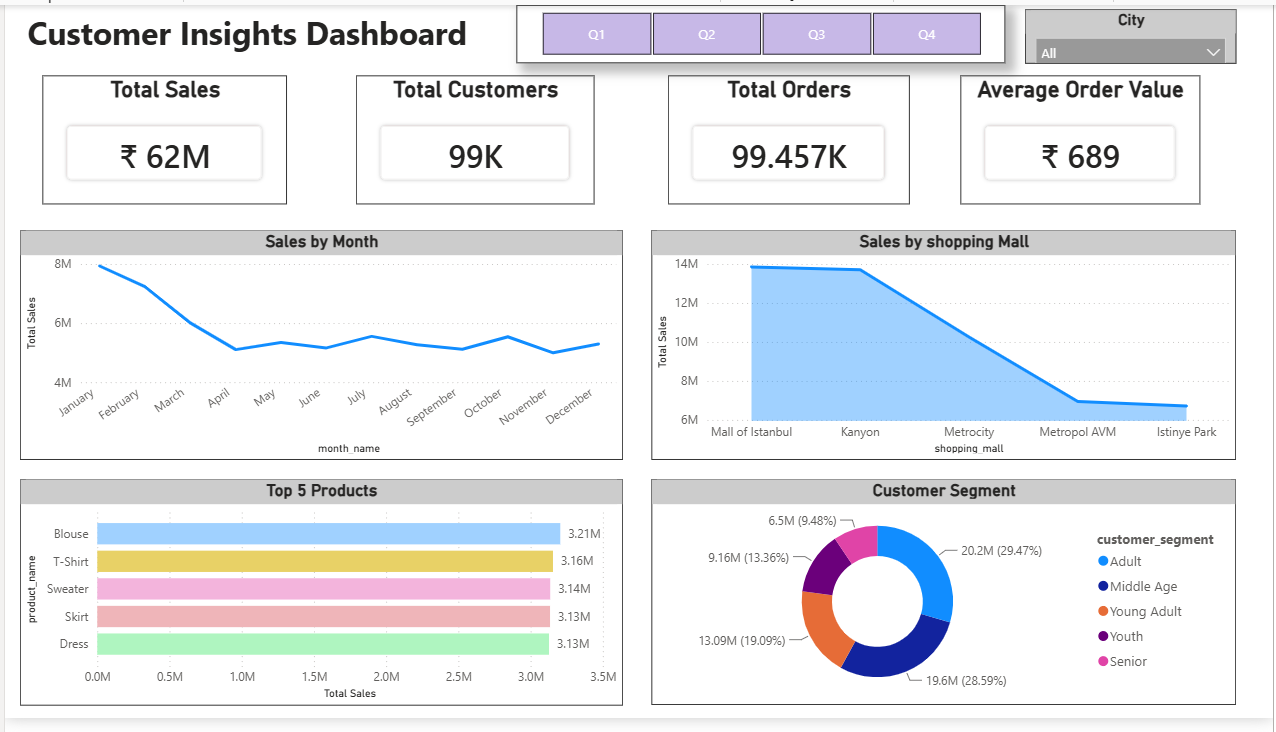

This screenshot's page, from the dashboard's own definition file:
{"tool":"powerbi","page":{"name":"Page 1","canvas":[1280,720],"ordinal":0},"visuals":[{"type":"cardVisual","title":"Total Sales","fields":{"Data":["Sum(customers_shopping_data_cleaned.total_amount)"]},"box":[37.9,71.2,246.8,130.2],"z":0},{"type":"cardVisual","title":"Total Customers","fields":{"Data":["customers_shopping_data_cleaned.Total Customers"]},"box":[354.3,71.2,240.8,130.2],"z":1000},{"type":"textbox","box":[15.1,0,458.8,59.1],"z":2000},{"type":"cardVisual","title":"Total Orders","fields":{"Data":["customers_shopping_data_cleaned.Total Orders"]},"box":[669.3,71.2,243.8,130.2],"z":3000},{"type":"cardVisual","title":"Average Order Value","fields":{"Data":["customers_shopping_data_cleaned.Average Order Value"]},"box":[965,71.7,241.7,130],"z":4000},{"type":"lineChart","title":"Sales by Month","fields":{"Y":["customers_shopping_data_cleaned.Total Sales"],"Category":["customers_shopping_data_cleaned.month_name"]},"box":[15,226.7,608.3,231.7],"z":5000},{"type":"areaChart","title":"Sales by shopping Mall","fields":{"Y":["customers_shopping_data_cleaned.Total Sales"],"Category":["customers_shopping_data_cleaned.shopping_mall"]},"box":[653.3,226.7,590,231.7],"z":6000},{"type":"barChart","title":"Top 5 Products","fields":{"Category":["customers_shopping_data_cleaned.product_name"],"Y":["customers_shopping_data_cleaned.Total Sales"]},"box":[15,478.3,608.3,228.3],"z":7000},{"type":"donutChart","title":"Customer Segment","fields":{"Category":["customers_shopping_data_cleaned.customer_segment"],"Y":["customers_shopping_data_cleaned.Total Sales"]},"box":[653,478,590,228],"z":8000},{"type":"slicer","title":"Select Quarter","fields":{"Values":["customers_shopping_data_cleaned.Quarter"]},"box":[516.7,0,493.3,58.3],"z":9000},{"type":"slicer","title":"City","fields":{"Values":["customers_shopping_data_cleaned.customer_city"]},"box":[1029.7,4.5,213.5,54.5],"z":10000}]}

Visuals, with their boxes in screenshot pixels (x1, y1, x2, y2), scaled from the page's 1280x720 canvas onto the 1276x732 screenshot:
"Total Sales" cardVisual: (38,72,284,205)
"Total Customers" cardVisual: (353,72,593,205)
textbox: (15,0,472,60)
"Total Orders" cardVisual: (667,72,910,205)
"Average Order Value" cardVisual: (962,73,1203,205)
"Sales by Month" lineChart: (15,230,621,466)
"Sales by shopping Mall" areaChart: (651,230,1239,466)
"Top 5 Products" barChart: (15,486,621,718)
"Customer Segment" donutChart: (651,486,1239,718)
"Select Quarter" slicer: (515,0,1007,59)
"City" slicer: (1026,5,1239,60)
